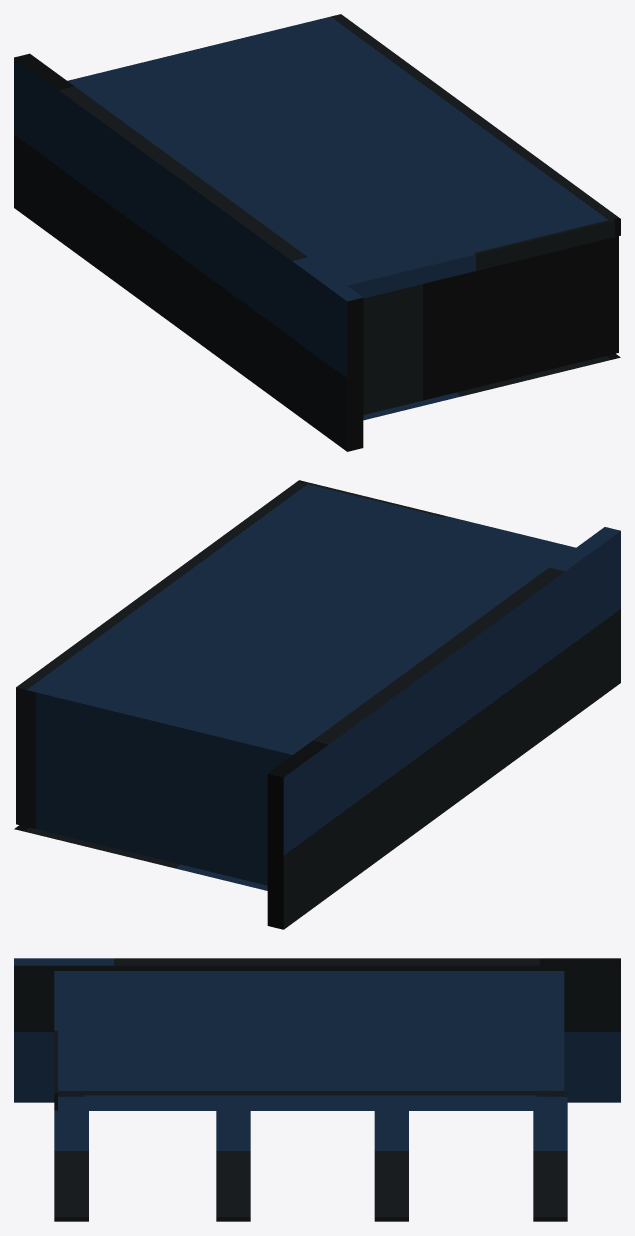
3 views of the same model, one above another, from view 1: azimuth 30°, elevation 25°; view 2: azimuth 150°, elevation 25°; view 3: azimuth 270°, elevation 25° (orthographic). The views are drawn at different scales.
Bounding box in the file's own units: 0.905 × 0.4397 × 1.77.
